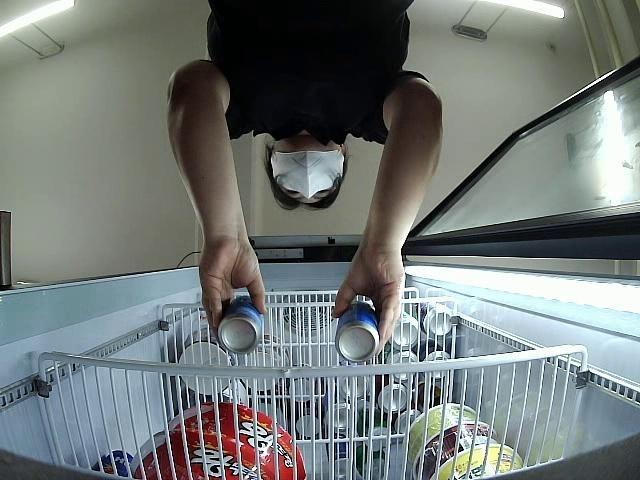15_letsbe: (216, 294, 264, 354), (335, 300, 380, 363)
